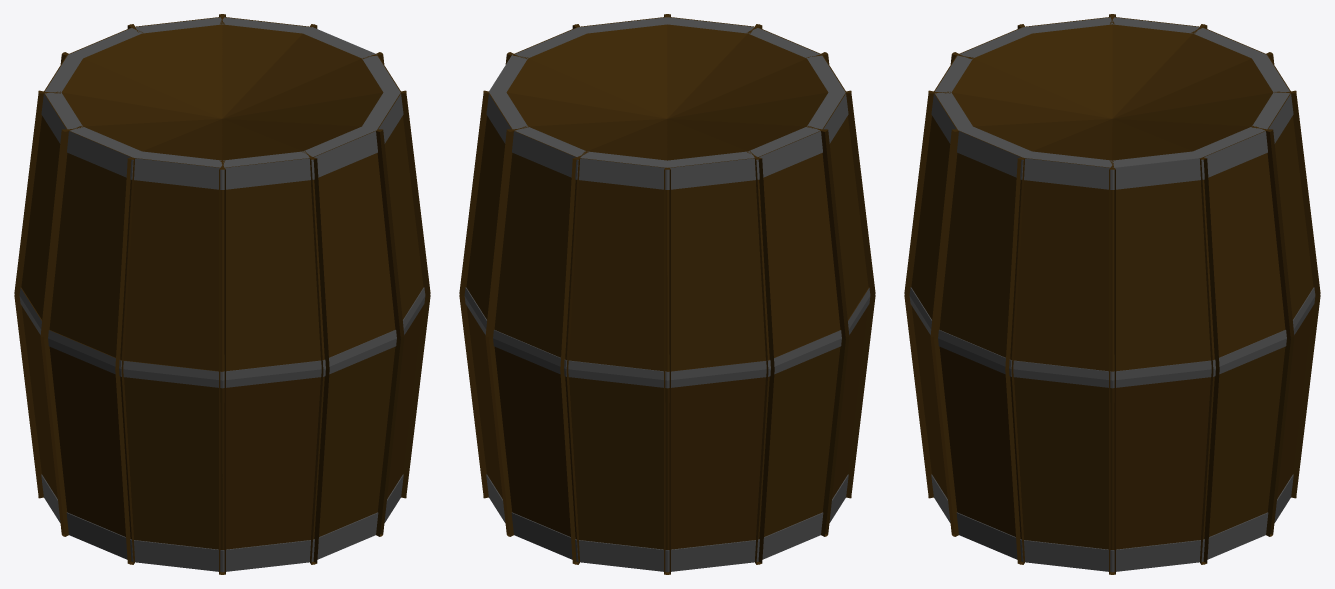
The model's file is Barrel.fbx.
3 renders of one model, left to right at view 1: azimuth 30°, elevation 25°; view 2: azimuth 150°, elevation 25°; view 3: azimuth 270°, elevation 25°, orthographic.
Parts seen in each view (by area): view 1: Barrel; view 2: Barrel; view 3: Barrel.
Part boxes in pixels (x1,y1,x2,y2): Barrel: (14, 14, 430, 574); Barrel: (459, 14, 875, 574); Barrel: (904, 14, 1320, 574).
Size of the model in its own units: 233 by 251 by 233.
Materials: 1 (1 with a texture image).
